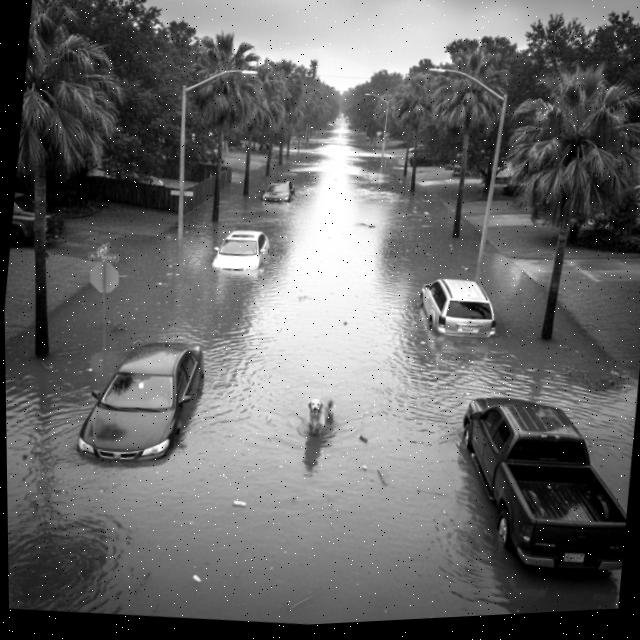dog: (295, 388, 345, 442)
